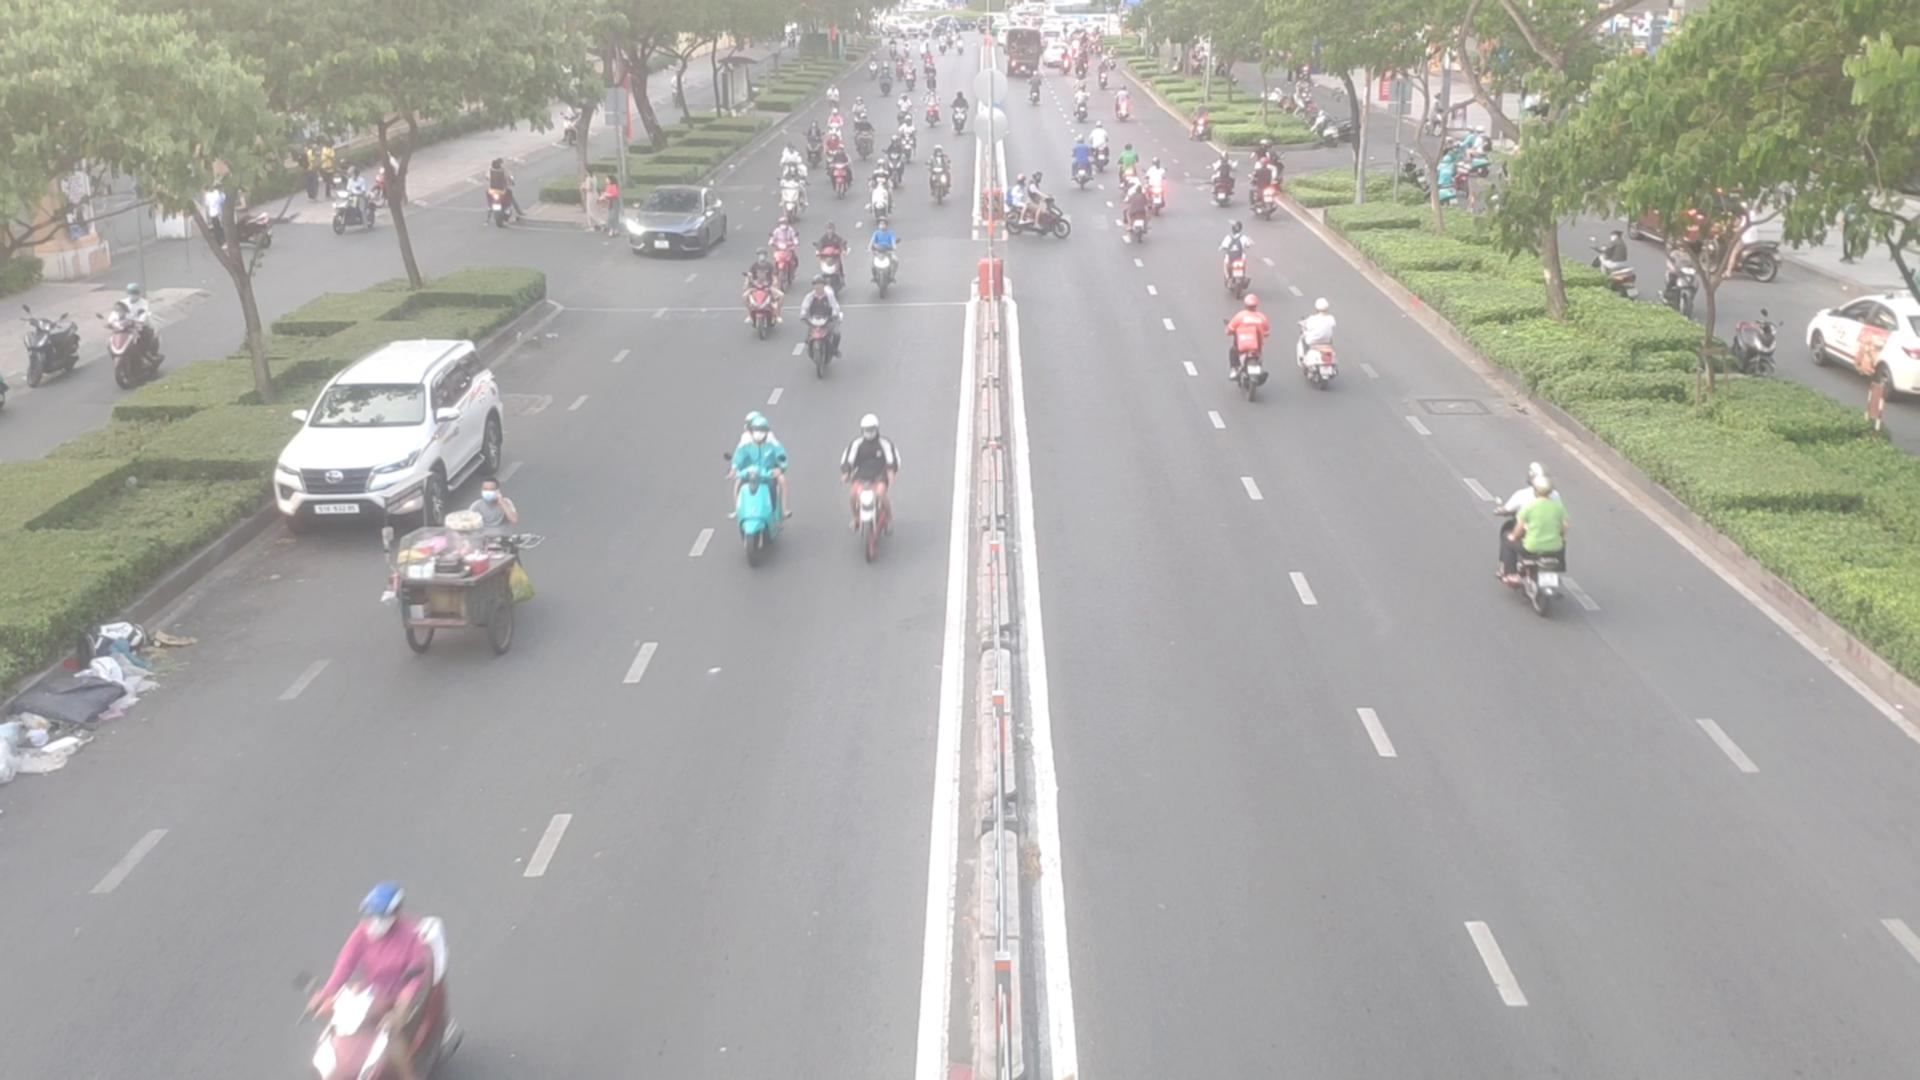car: (276, 342, 521, 524), (611, 194, 745, 260)
motorbike: (289, 890, 459, 1080), (1484, 469, 1581, 625), (839, 417, 909, 575), (727, 404, 790, 570), (1002, 170, 1072, 243), (1292, 309, 1346, 397), (1226, 303, 1276, 398), (732, 260, 785, 339), (803, 290, 849, 377), (744, 227, 795, 290), (860, 227, 905, 298), (1224, 237, 1267, 301), (1064, 144, 1104, 190), (864, 173, 898, 220), (1129, 182, 1150, 249)
